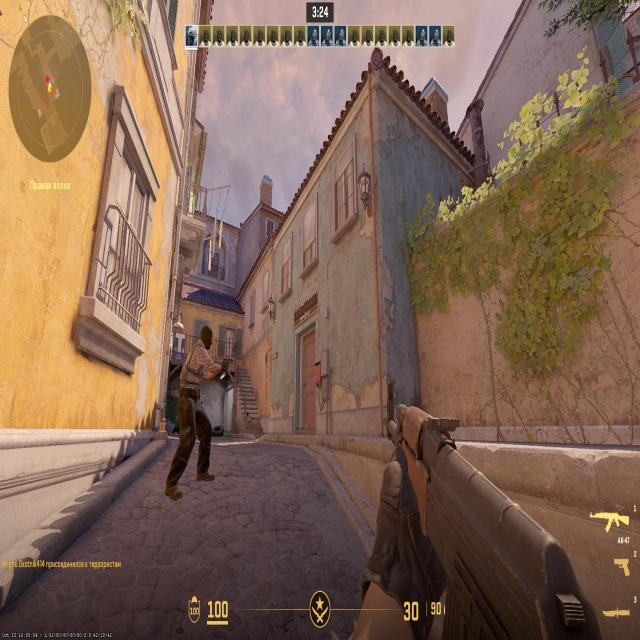T: (186, 320, 210, 488)
T_heat: (202, 331, 210, 350)
